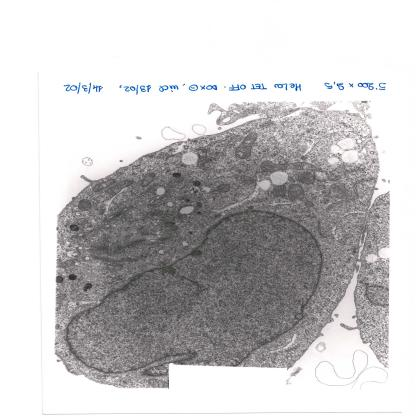mitochondria: (258, 160, 326, 173), (234, 130, 258, 160), (107, 179, 135, 197), (287, 182, 305, 202), (92, 179, 118, 192), (195, 146, 208, 168), (138, 172, 156, 187), (167, 177, 189, 188), (105, 262, 124, 274), (78, 198, 94, 212), (300, 171, 316, 185), (270, 185, 286, 198), (237, 175, 255, 185), (160, 213, 178, 222), (217, 184, 232, 193), (76, 217, 88, 226), (303, 201, 315, 208), (154, 209, 164, 217)
